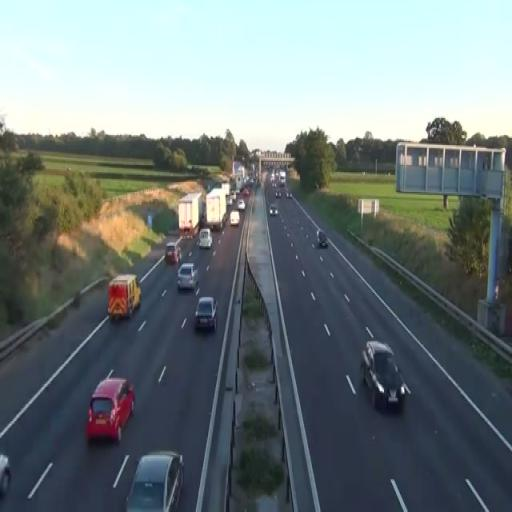Car: (125, 451, 185, 512), (86, 374, 135, 444), (362, 341, 408, 413), (194, 297, 218, 332), (177, 262, 199, 292), (0, 453, 12, 498), (165, 240, 180, 264), (198, 228, 212, 250), (316, 228, 328, 248), (230, 210, 240, 227), (236, 199, 246, 211)
Truck: (107, 273, 142, 320), (178, 192, 204, 236), (206, 188, 228, 230)
